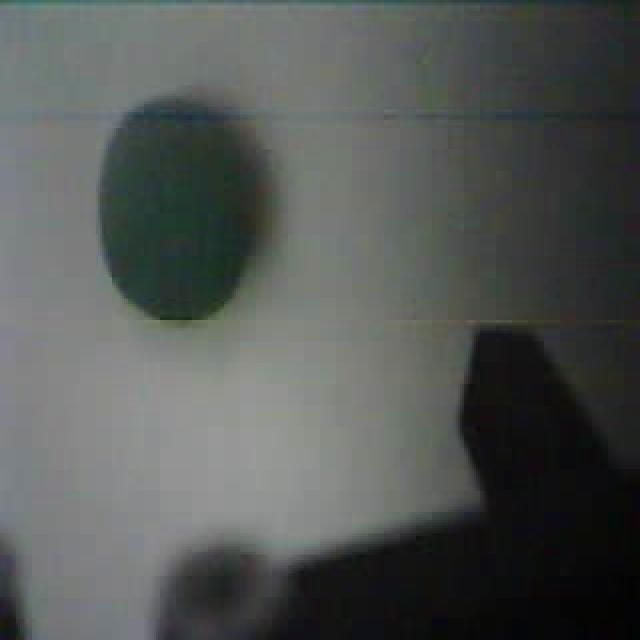green_ball: (94, 91, 270, 325)
